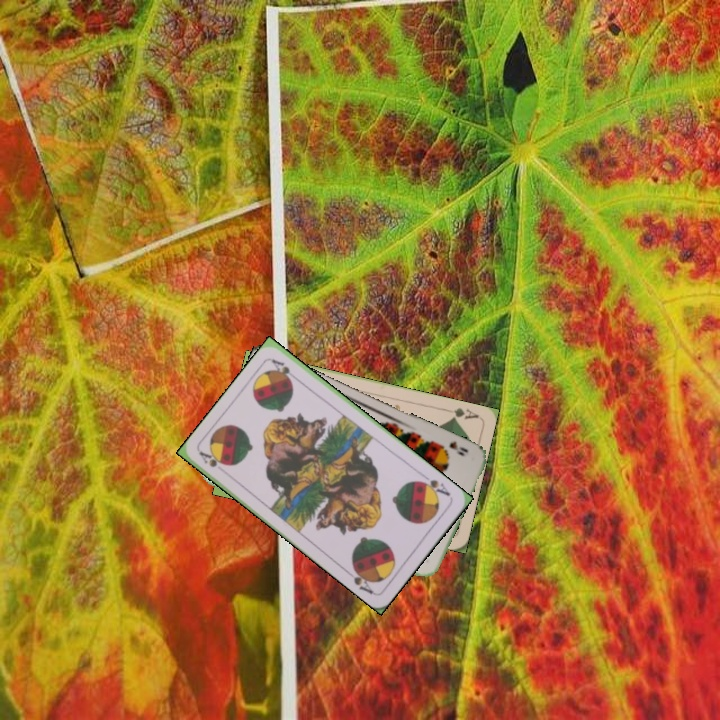GA: (441, 404, 481, 422)
S9: (433, 437, 471, 458)
SA: (415, 475, 453, 500), (196, 447, 229, 470)
